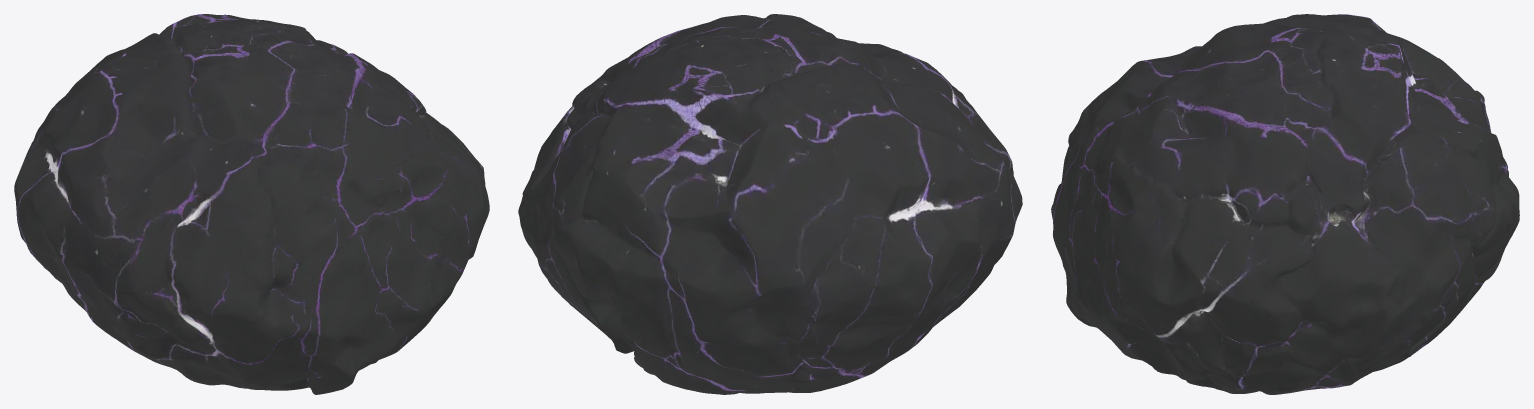
File: model.opt.glb
3 views of the same model, side by side, from view 1: azimuth 30°, elevation 25°; view 2: azimuth 150°, elevation 25°; view 3: azimuth 270°, elevation 25° (orthographic). The views are drawn at different scales.
Bounding box in the file's own units: 1.9 × 1.46 × 1.86.
Materials: 1 (1 with a texture image).
